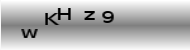9: (101, 10, 115, 24)
H: (56, 7, 72, 21)
K: (44, 12, 60, 26)
w: (21, 28, 38, 39)
z: (82, 10, 95, 21)
